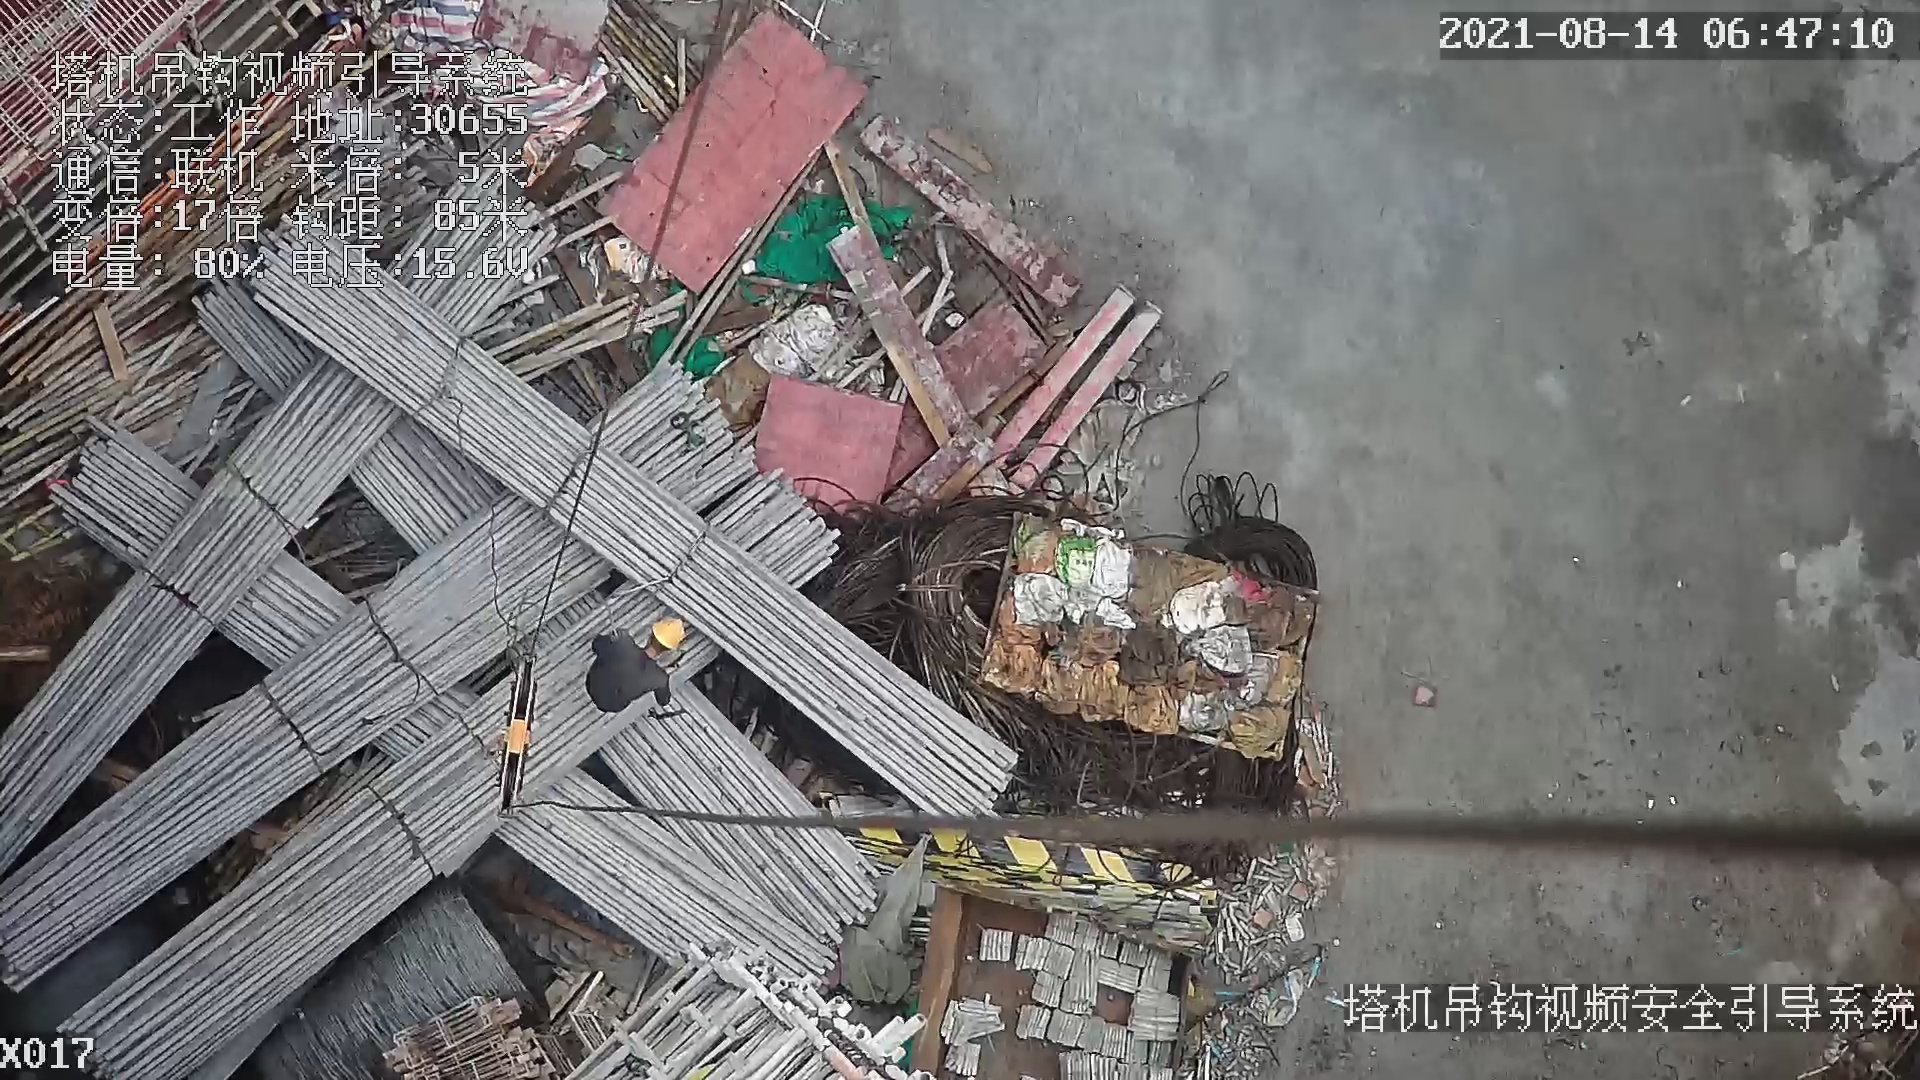board: (589, 5, 854, 290)
helmet: (651, 612, 686, 650)
hook: (488, 645, 551, 823)
person: (588, 614, 696, 719)
